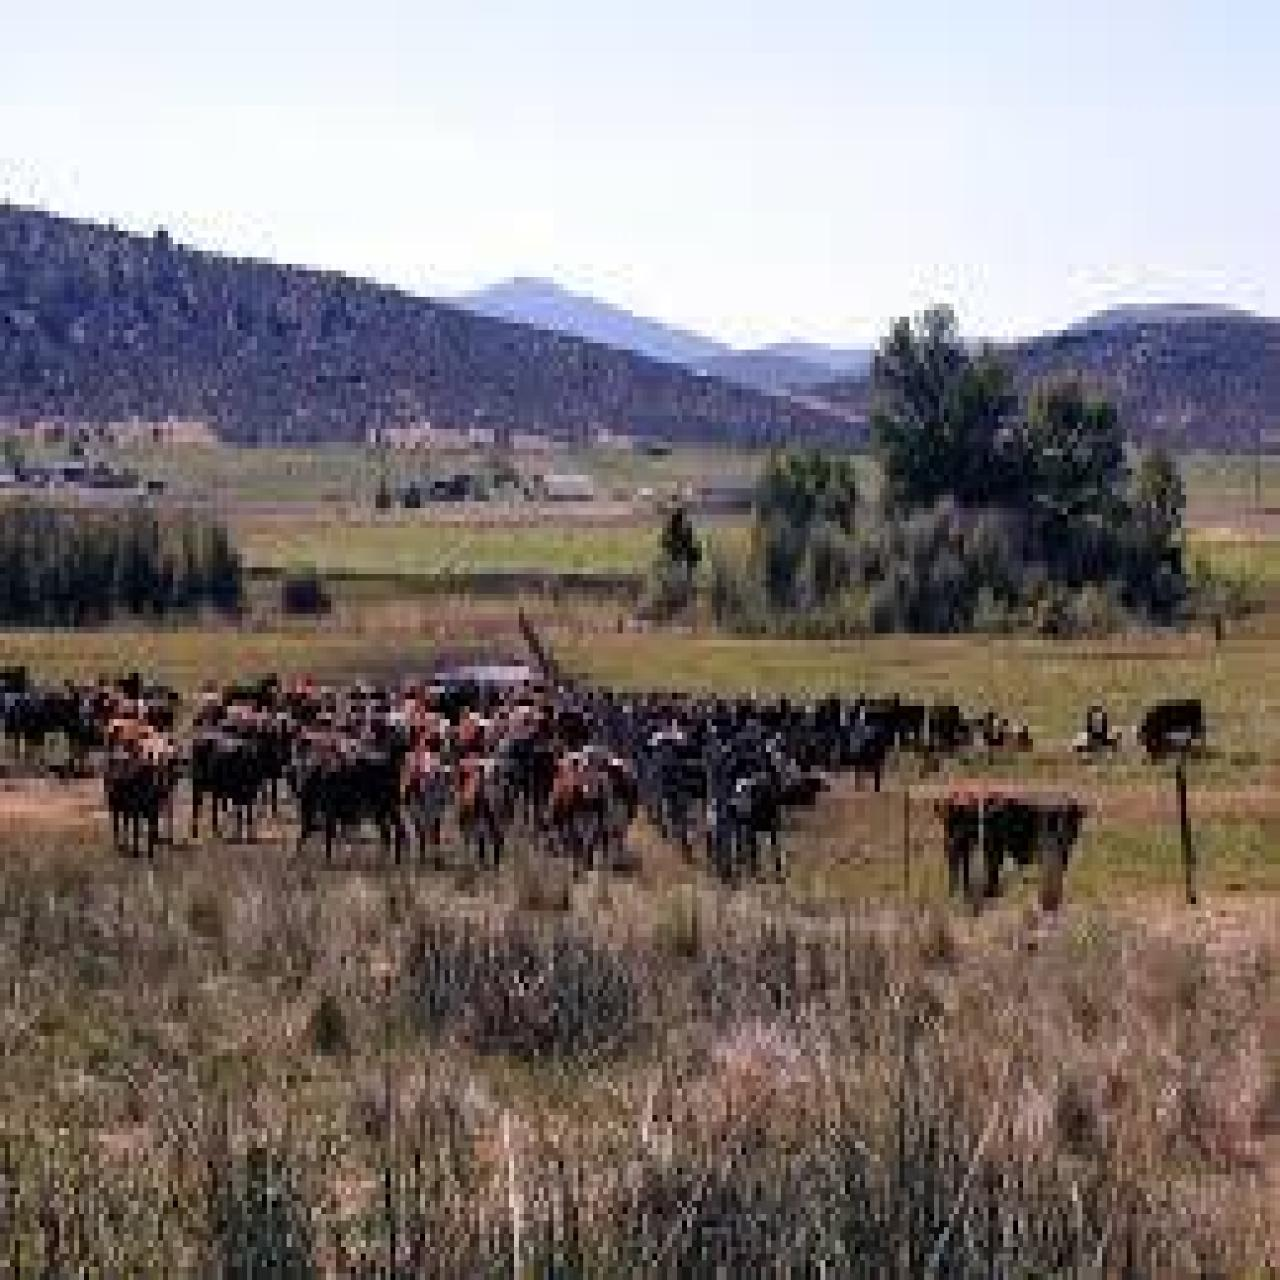cow: (939, 798, 1092, 917), (279, 756, 413, 874), (98, 742, 183, 867), (185, 736, 274, 842), (450, 762, 519, 874), (542, 772, 606, 871), (1137, 689, 1206, 756)
